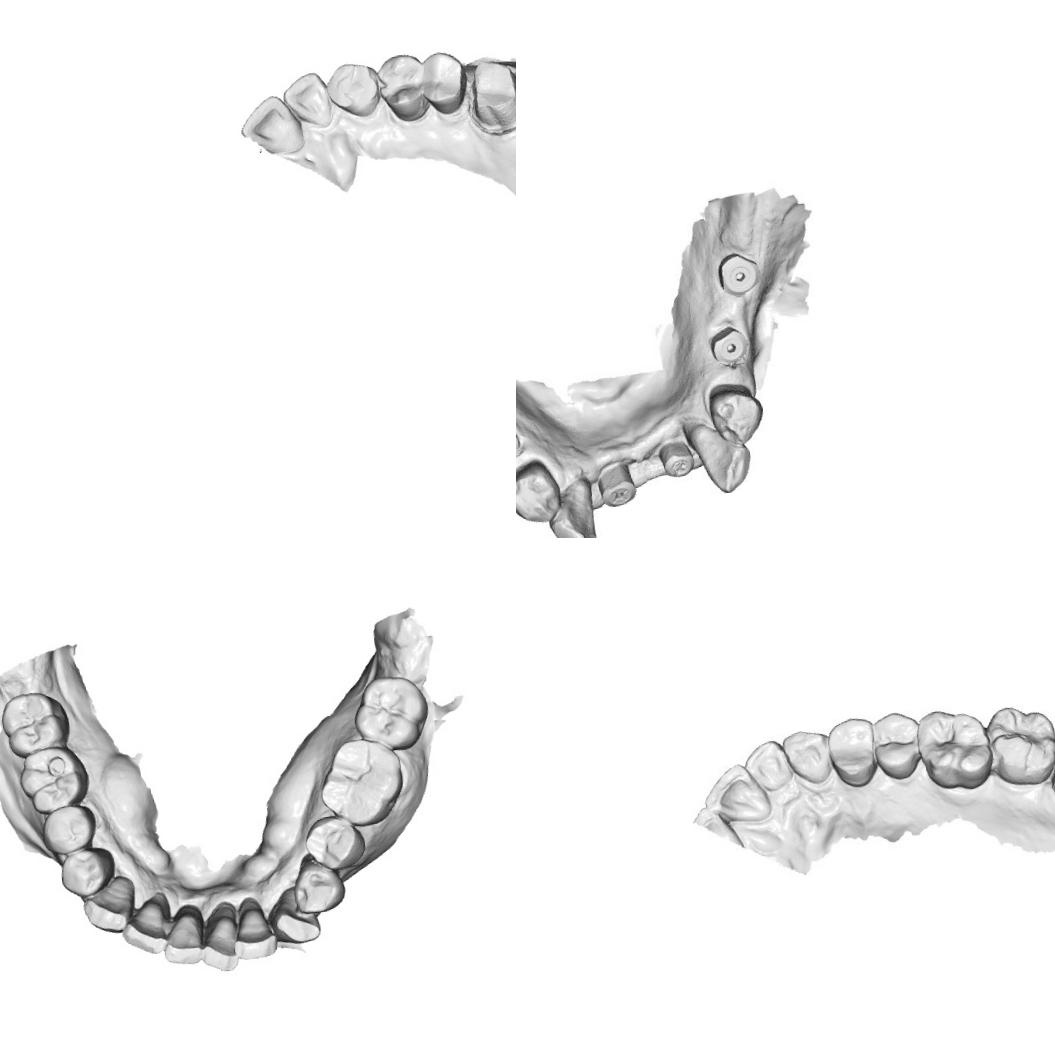canine: (690, 420, 753, 494), (78, 872, 141, 938), (262, 886, 326, 950), (323, 58, 386, 122), (548, 482, 605, 538), (782, 728, 832, 786)
crown: (462, 55, 516, 138)
implant: (702, 319, 758, 370), (713, 249, 762, 301), (658, 435, 697, 480)
implant_plus: (598, 462, 638, 508)
incisor: (236, 90, 308, 160), (226, 896, 282, 964), (706, 764, 768, 824), (118, 893, 172, 958), (195, 905, 244, 976), (278, 70, 333, 131), (157, 906, 208, 968), (746, 740, 796, 790)
molar: (312, 730, 410, 834), (346, 668, 435, 756), (916, 704, 996, 787), (983, 700, 1055, 783), (14, 744, 93, 818), (0, 686, 74, 759)
premolar: (298, 811, 370, 876), (704, 378, 768, 446), (374, 50, 431, 126), (55, 842, 121, 902), (416, 48, 472, 118), (38, 800, 102, 858), (871, 713, 924, 783), (290, 858, 348, 918), (828, 718, 878, 786), (516, 458, 566, 524)
